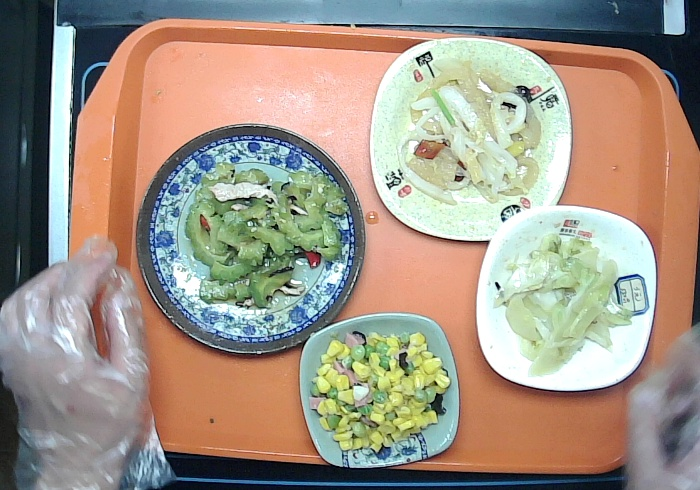NLDX-Bai_Se_Xiao_Fang_Die: (471, 203, 659, 394)
NLDX-Fu_Zi_Fang_Die: (367, 35, 574, 245)
NLDX-Qing_Hua_Xiao_Fang_Die: (297, 309, 462, 470)
NLDX-Qing_Hua_Yuan_Die: (132, 121, 369, 360)
